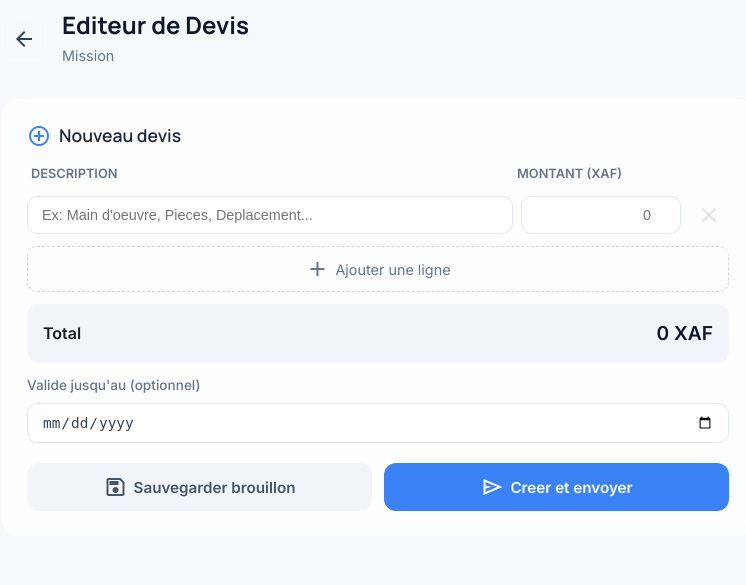
Test: QuoteEditor › refuse un devis dont une ligne est sans libellé
Click the button "Creer et envoyer" at coordinates (556, 487), box [384,463,729,511]
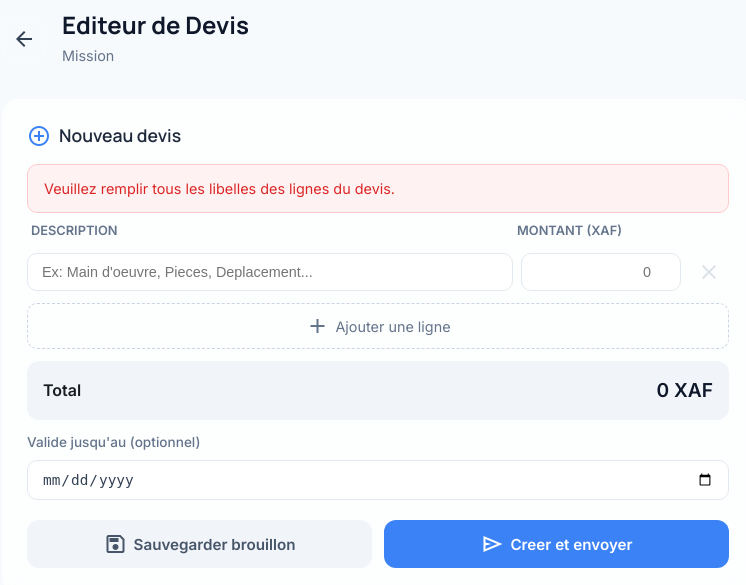
expect the text "Veuillez remplir tous les libelles des lignes du devis." is shown: met, box [27,164,729,213]
